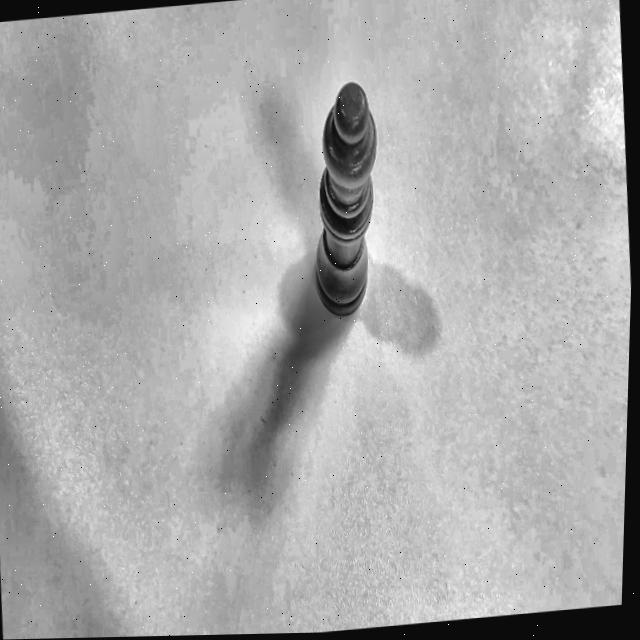black-queen: (290, 70, 410, 345)
